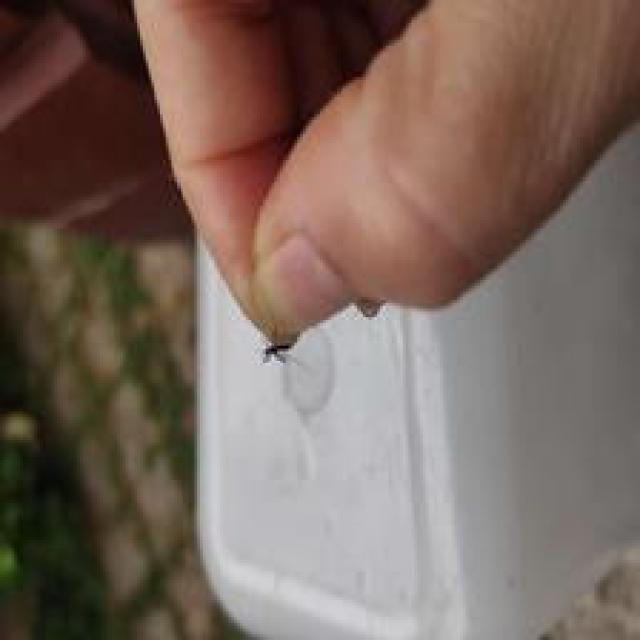Aedes albopictus: (260, 340, 294, 366)
